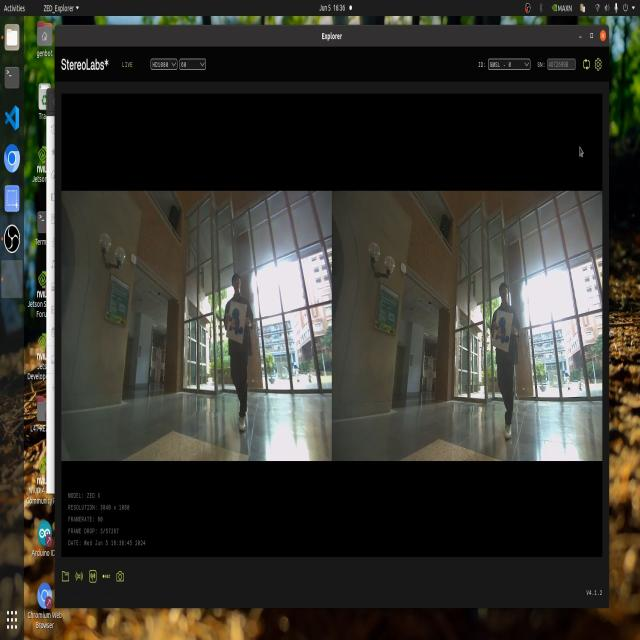blue: (492, 314, 517, 363), (224, 305, 249, 349)
